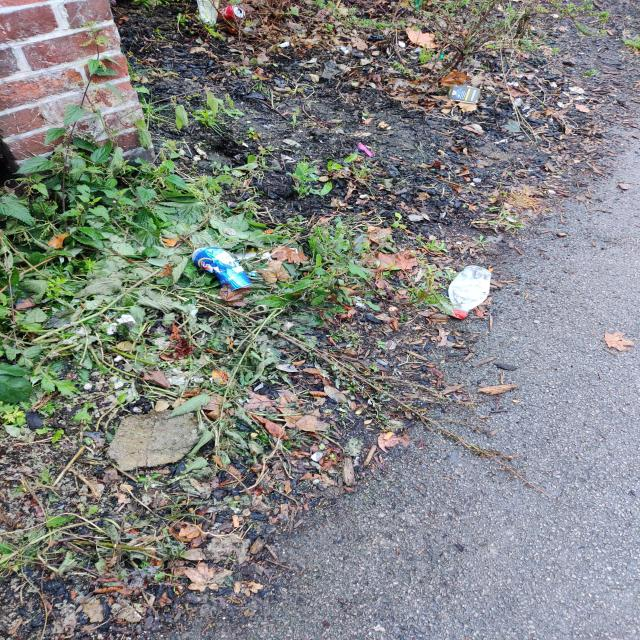litter: (184, 237, 257, 292), (444, 257, 502, 323), (443, 79, 497, 111), (196, 0, 222, 30), (218, 4, 252, 25)
